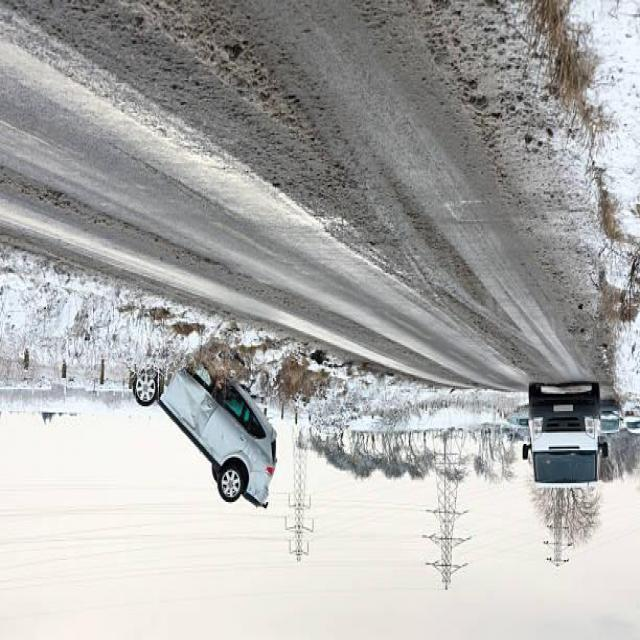severe: (125, 351, 280, 518)
